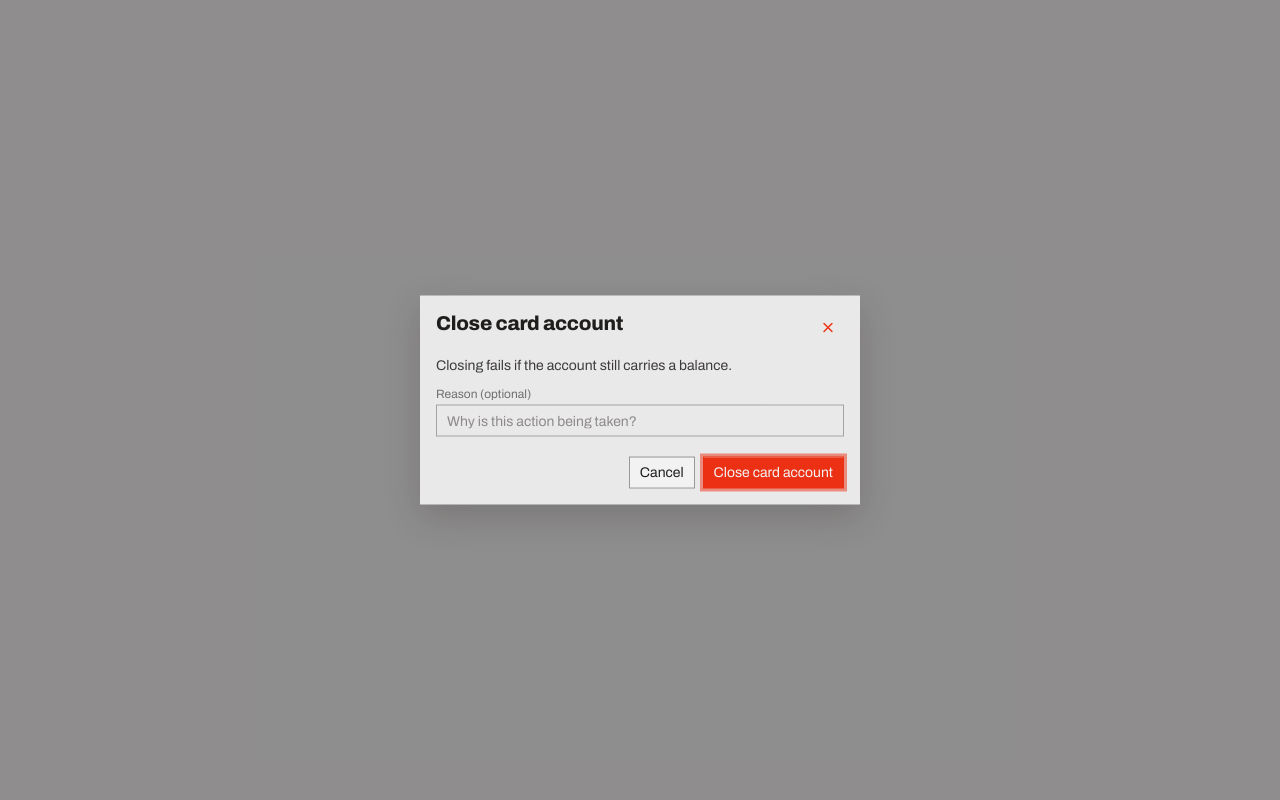
Test case: UpdateCardAccountStatusDialog › surfaces the balance-guard 409 message verbatim on a failed close, not a generic failure
Click the button "Close card account". click: (773, 472)
box: [703,456,844,488]
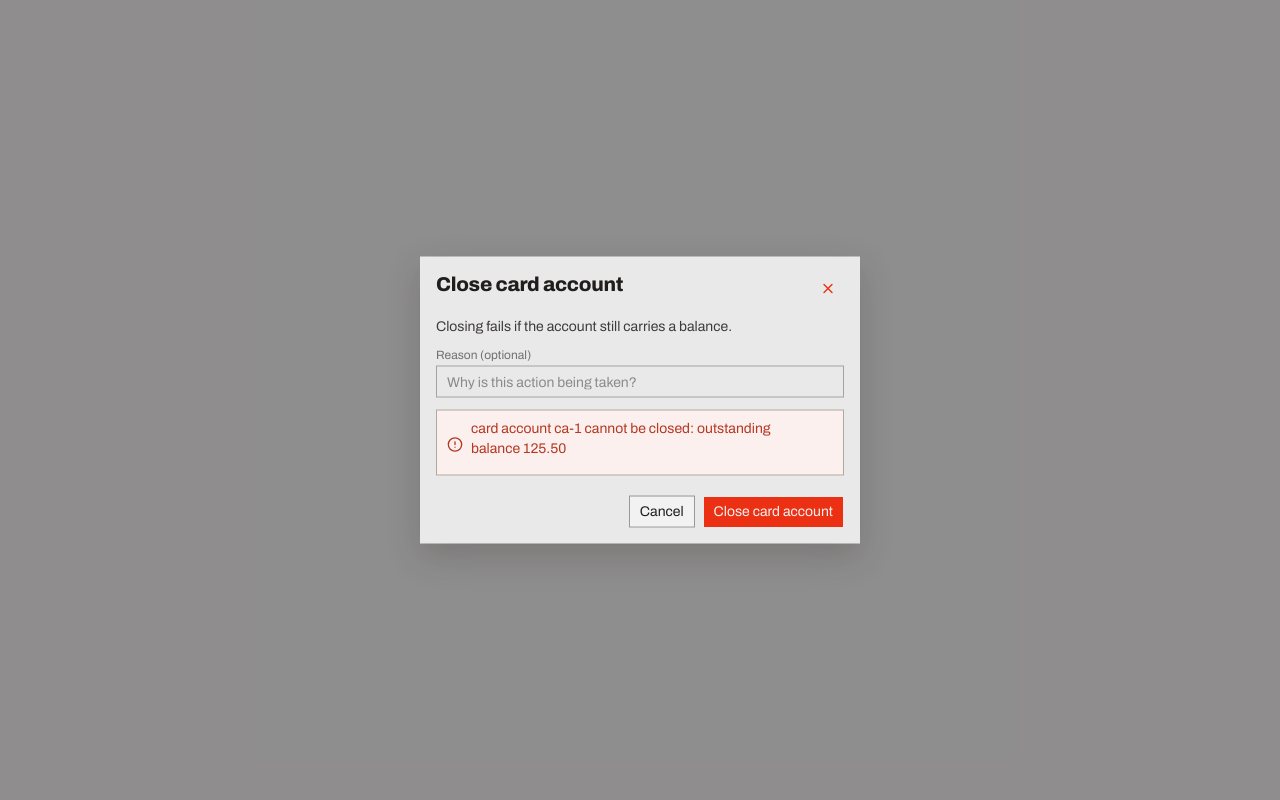
Expected: the text "card account ca-1 cannot be closed: outstanding balance 125.50" is shown, [471,420,771,456]
